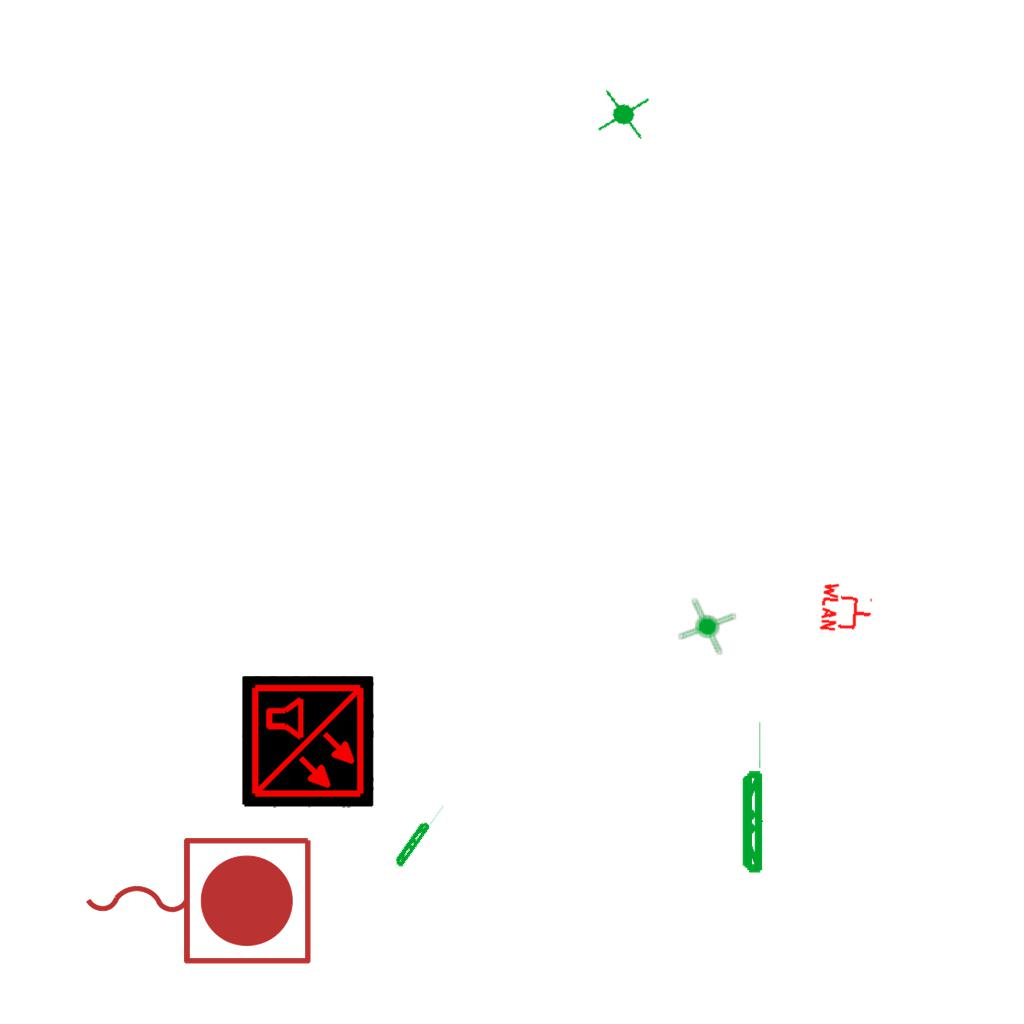Notlichtbaustein_in_Allgemeinbeleuchtug_engebaut_Einbau_(1UG_und_2UG_Aufbauvaria: (674, 592, 741, 660), (593, 84, 654, 146)
OKW_Multisensormelder_(Kombination_optischer_Rauch-Kahlenmonoxid_Waerme-Melder): (242, 676, 374, 808)
Sicherheitsleuchte_Wandeinbau: (391, 797, 447, 870), (739, 717, 764, 876)
WLAN: (818, 579, 876, 637)
Zugtaster: (75, 827, 319, 971)
